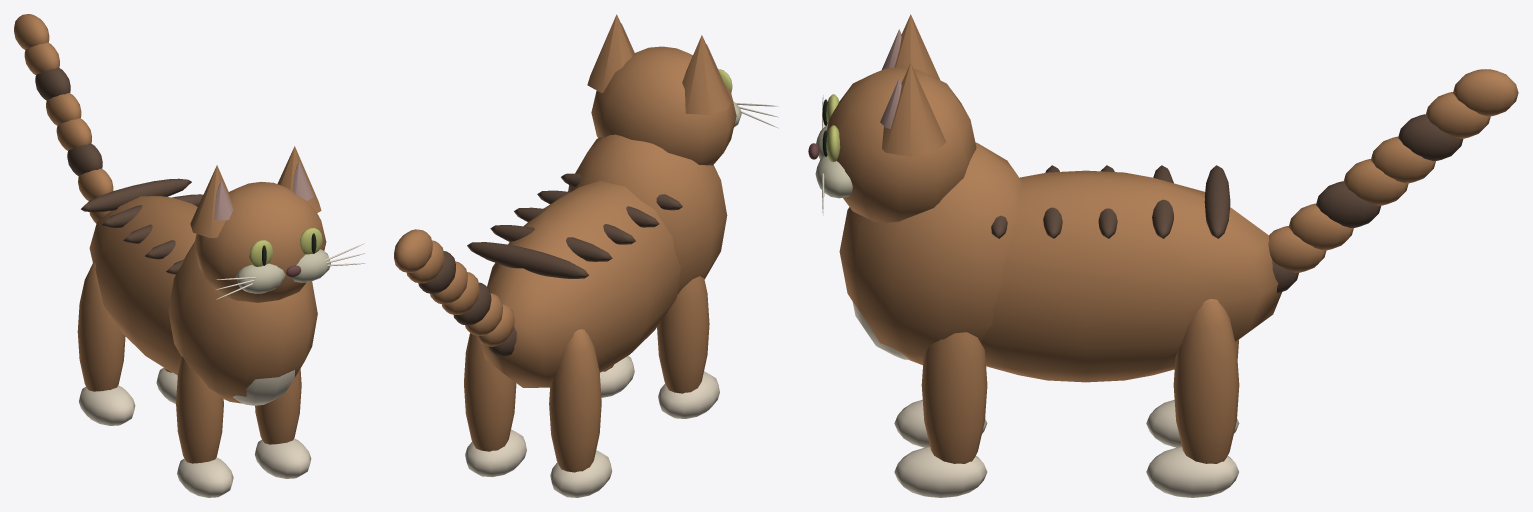
3 renders of one model, left to right at view 1: azimuth 30°, elevation 25°; view 2: azimuth 150°, elevation 25°; view 3: azimuth 270°, elevation 25°, orthographic. The views are drawn at different scales.
Visible parts, largest first — view 1: 고양이; view 2: 고양이; view 3: 고양이.
Boxes of the visible parts, <box> form: 고양이: <box>14,14,364,497</box>; 고양이: <box>394,14,778,497</box>; 고양이: <box>808,14,1518,497</box>.
Bounding box in the file's own units: 0.369 × 0.783 × 1.17.
